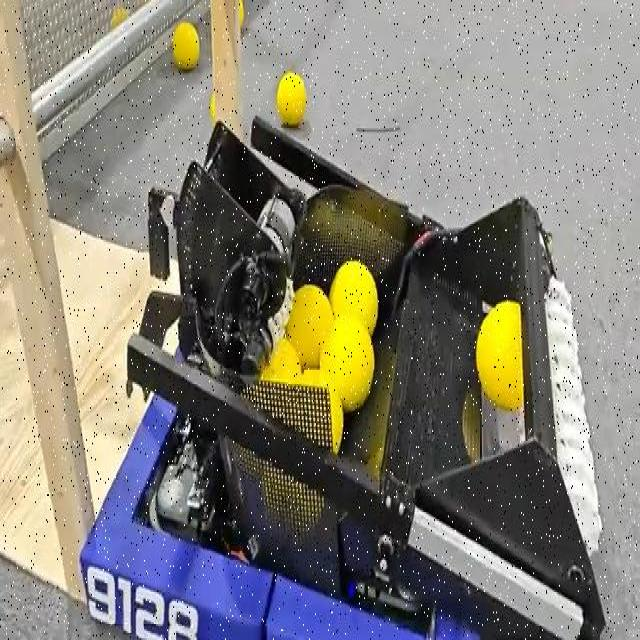Fuel: (320, 316, 374, 411), (476, 300, 523, 409), (323, 321, 374, 412), (297, 367, 345, 453), (286, 284, 333, 368), (302, 368, 343, 452), (329, 262, 377, 332), (261, 338, 302, 385), (261, 338, 301, 382), (276, 71, 306, 126), (276, 72, 306, 126), (172, 21, 199, 70), (172, 22, 199, 70), (111, 7, 128, 29), (110, 7, 128, 27)
